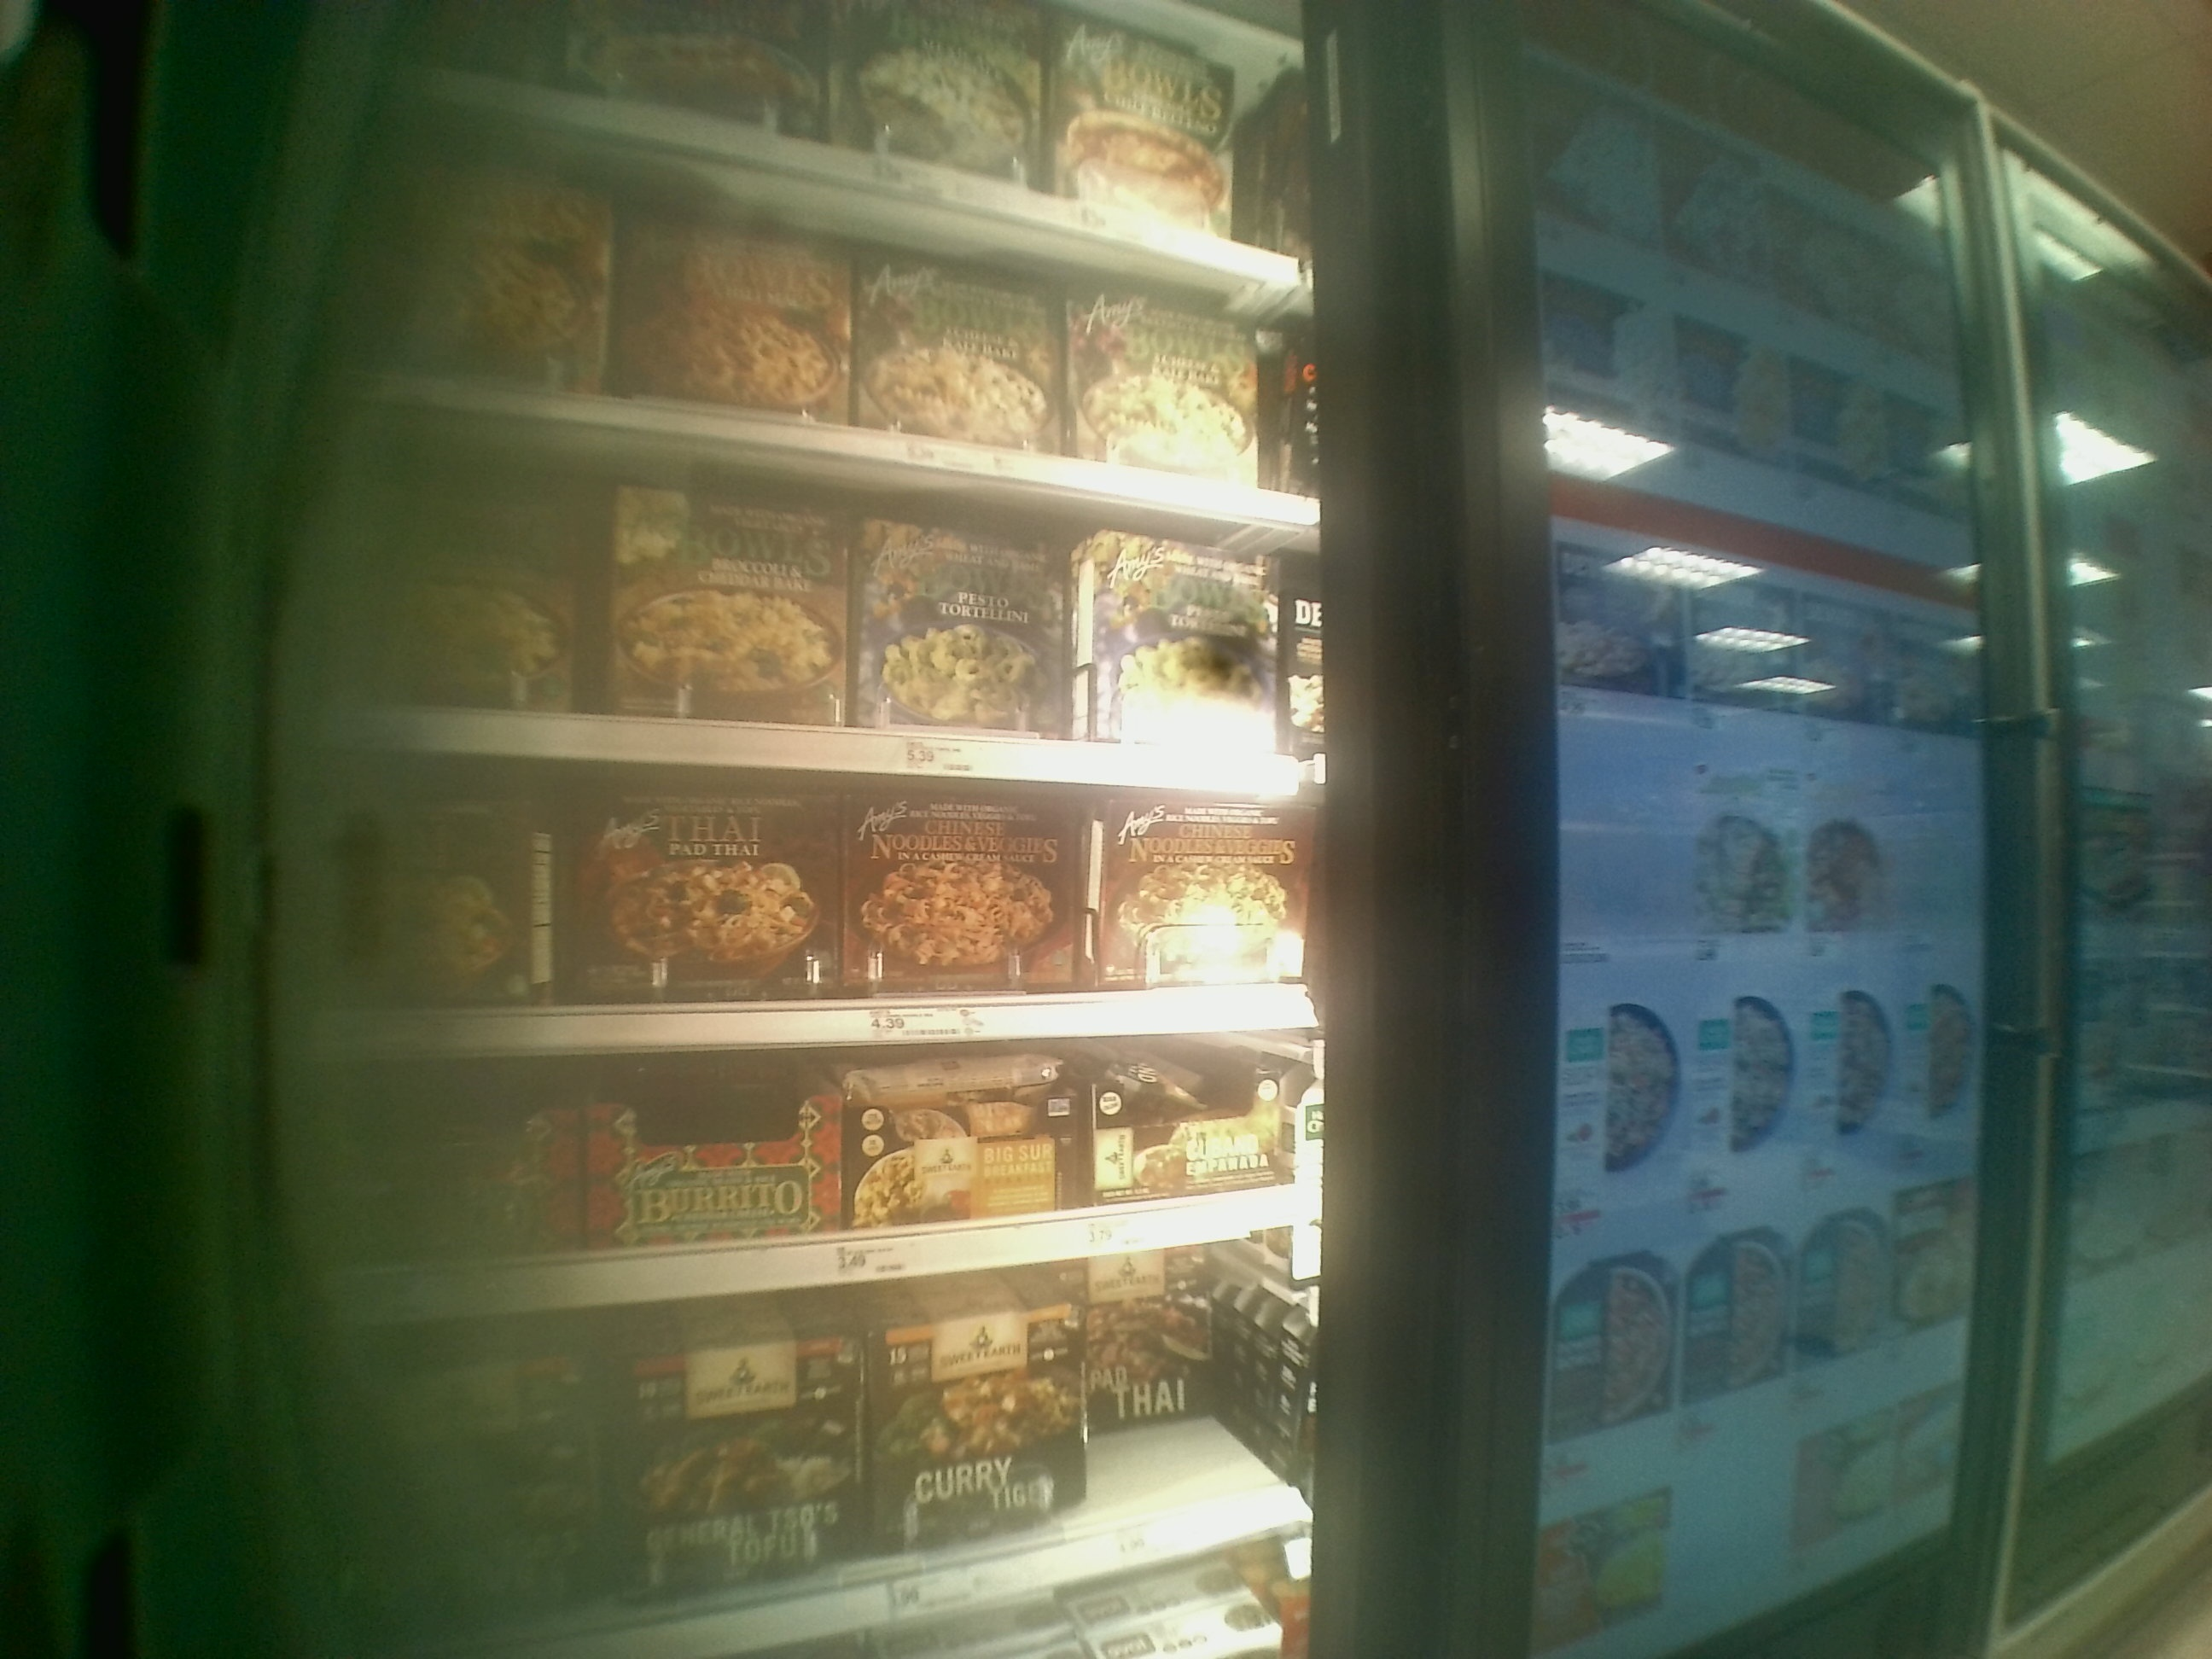shelf: (293, 751, 1305, 1033), (298, 1030, 1294, 1265)
